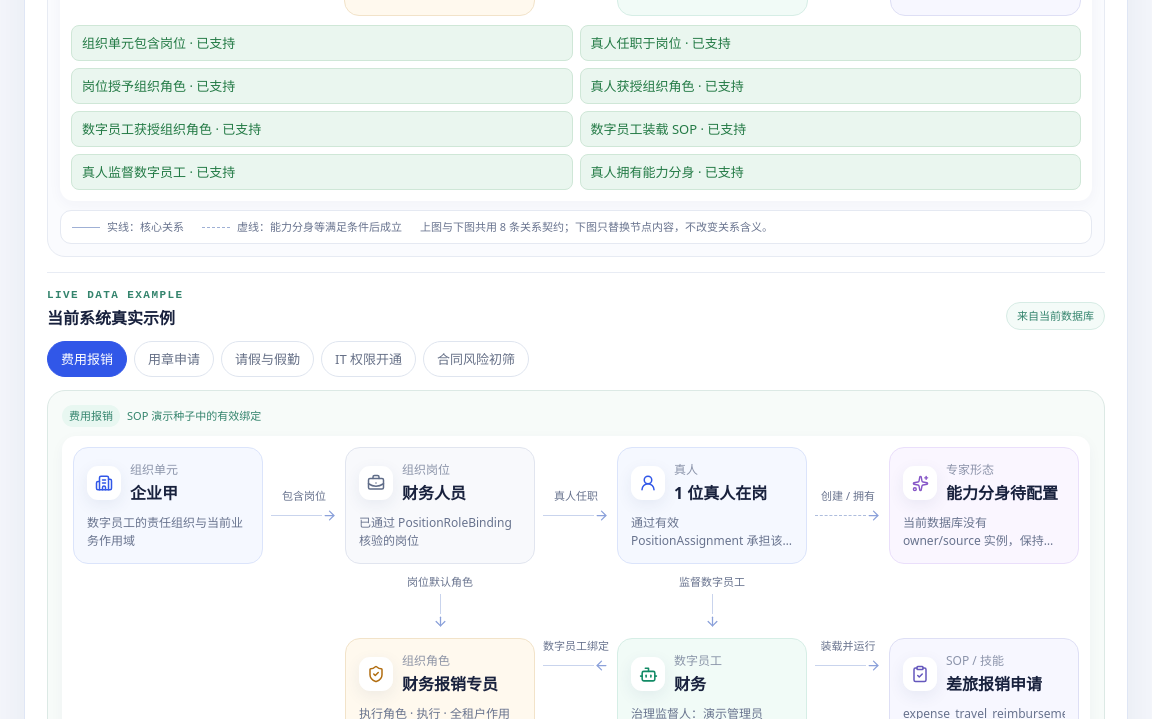
Test case: creates another enterprise as a company organization unit under the tenant root
(page scrolled)
Expected: the heading "财务报销专员" is shown, [402, 672, 498, 696]
Expected: the text "组织单元包含岗位 · 已支持" is shown once, [71, 25, 572, 61]
Click the tab "IT 权限开通" at {"x": 368, "y": 359}, box [321, 341, 416, 377]
(page scrolled)
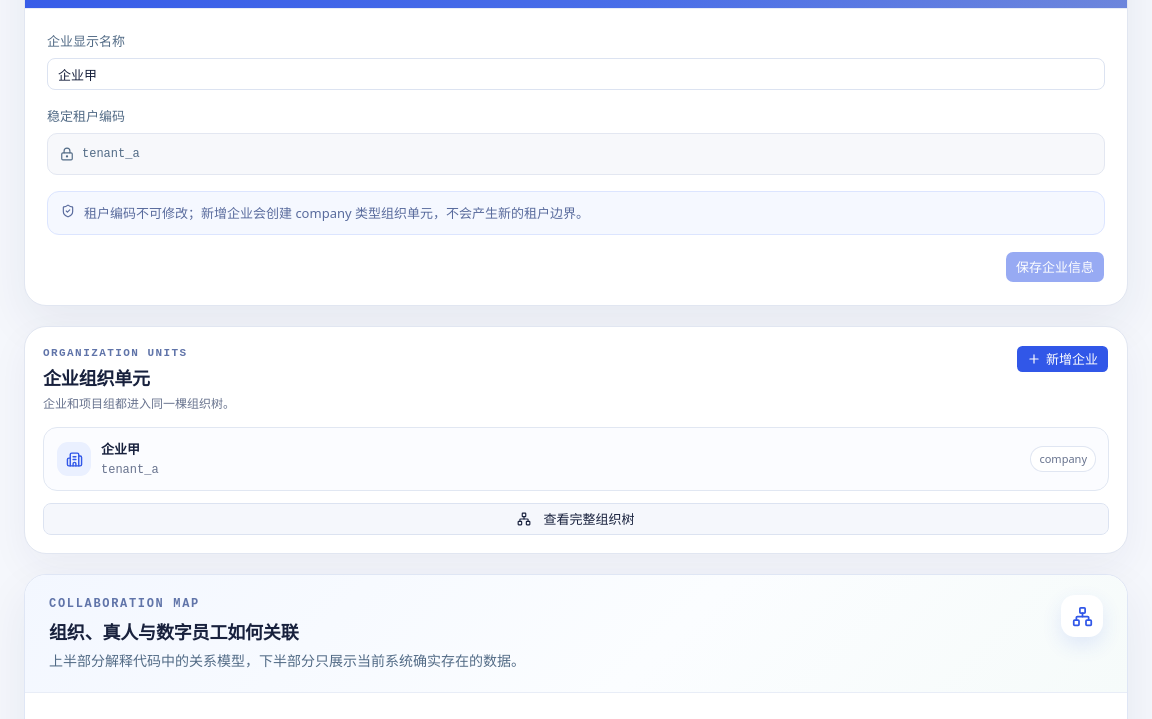
Click the button "新增企业" at {"x": 1062, "y": 359}, box [1016, 345, 1109, 373]
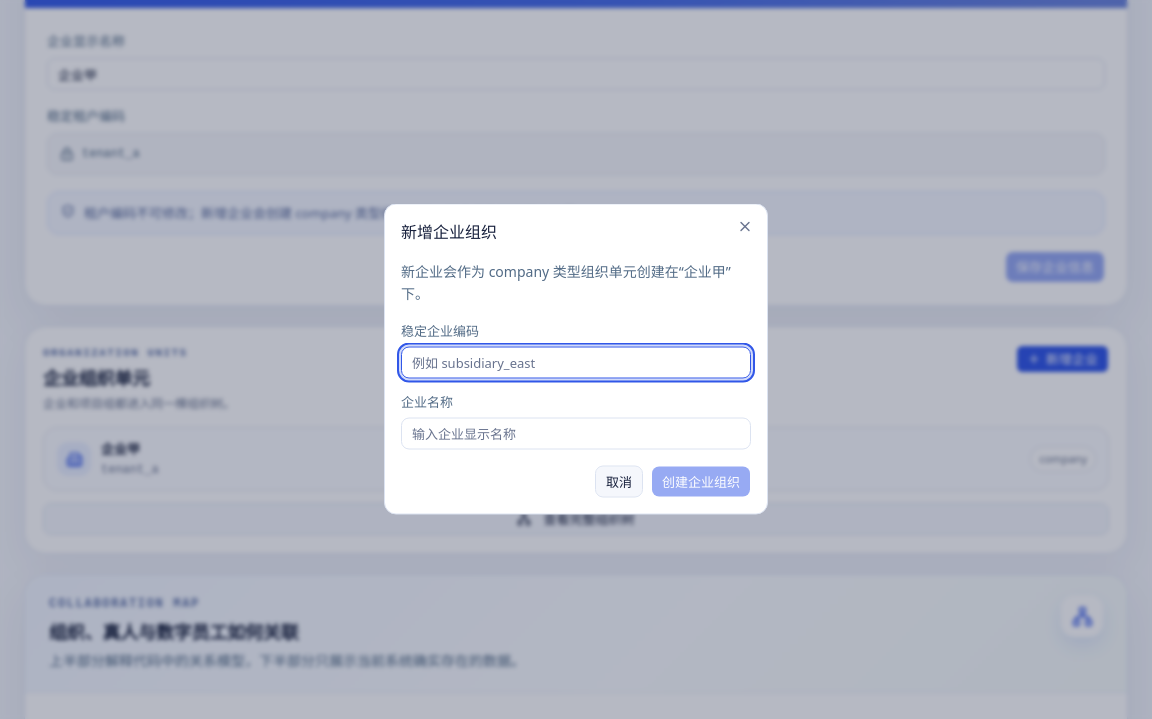
Type "subsidiary_east" into the field labelled "稳定企业编码" at {"x": 576, "y": 362}, box [401, 346, 751, 378]
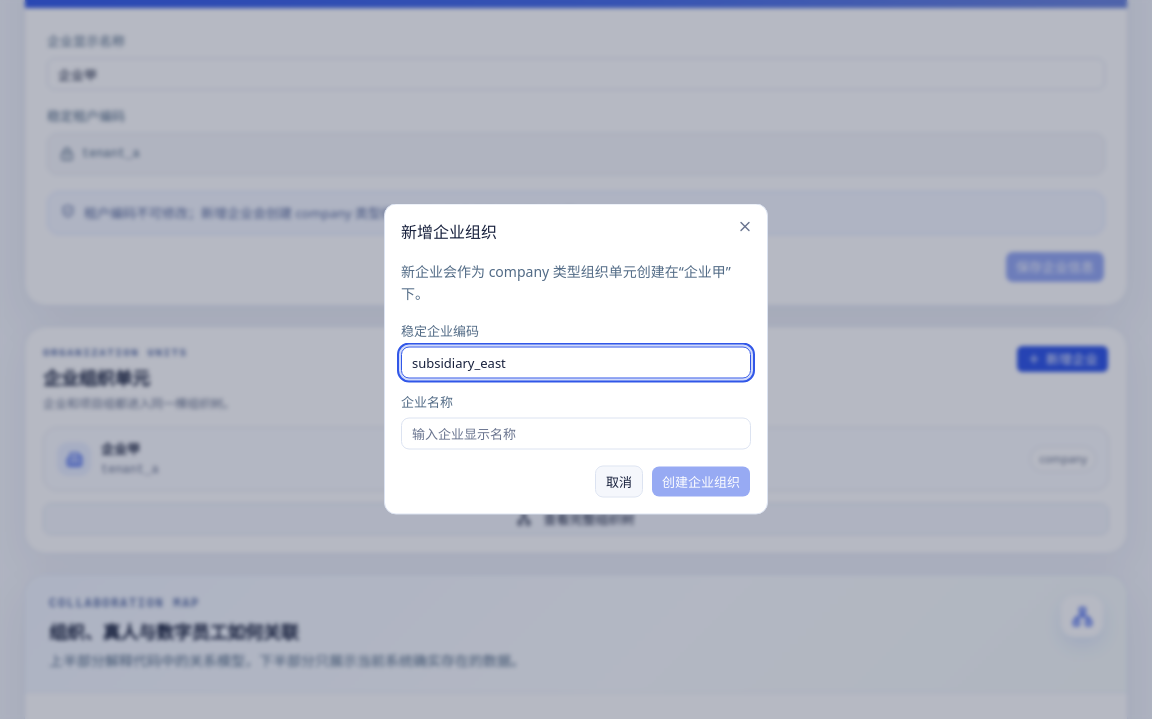
Type "华东子公司" into the field named "新增企业名称" at {"x": 576, "y": 434}, box [401, 418, 751, 450]
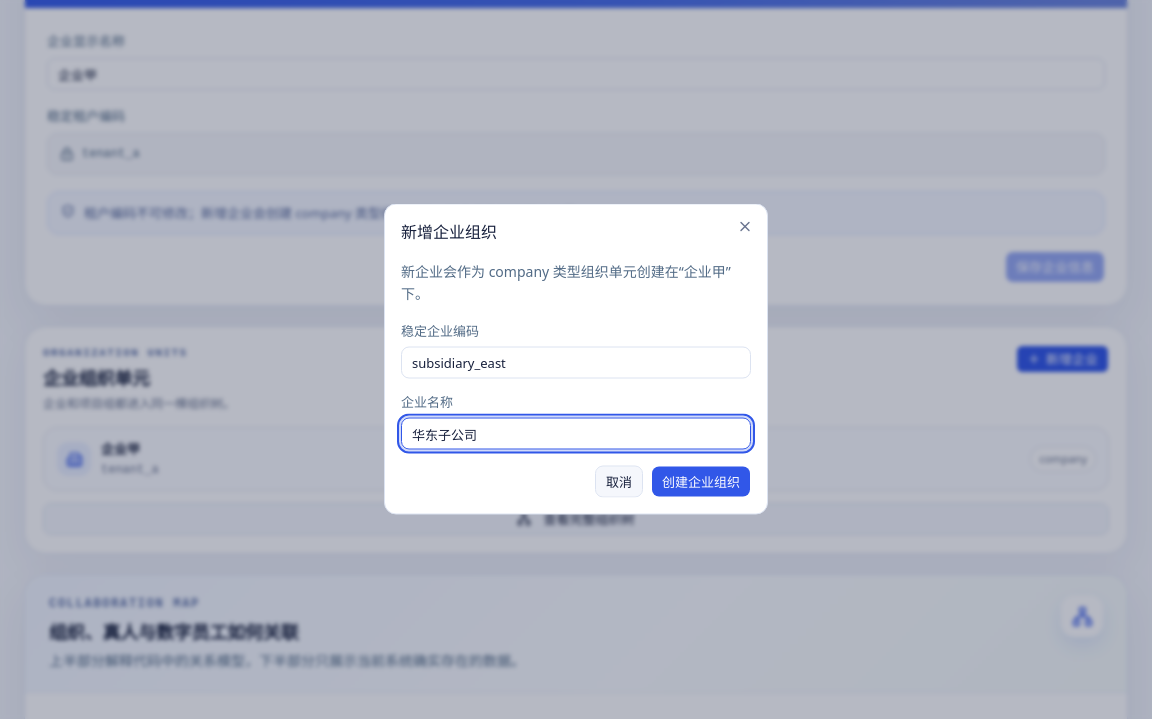
Click the button "创建企业组织" at {"x": 701, "y": 482}, box [651, 466, 751, 498]
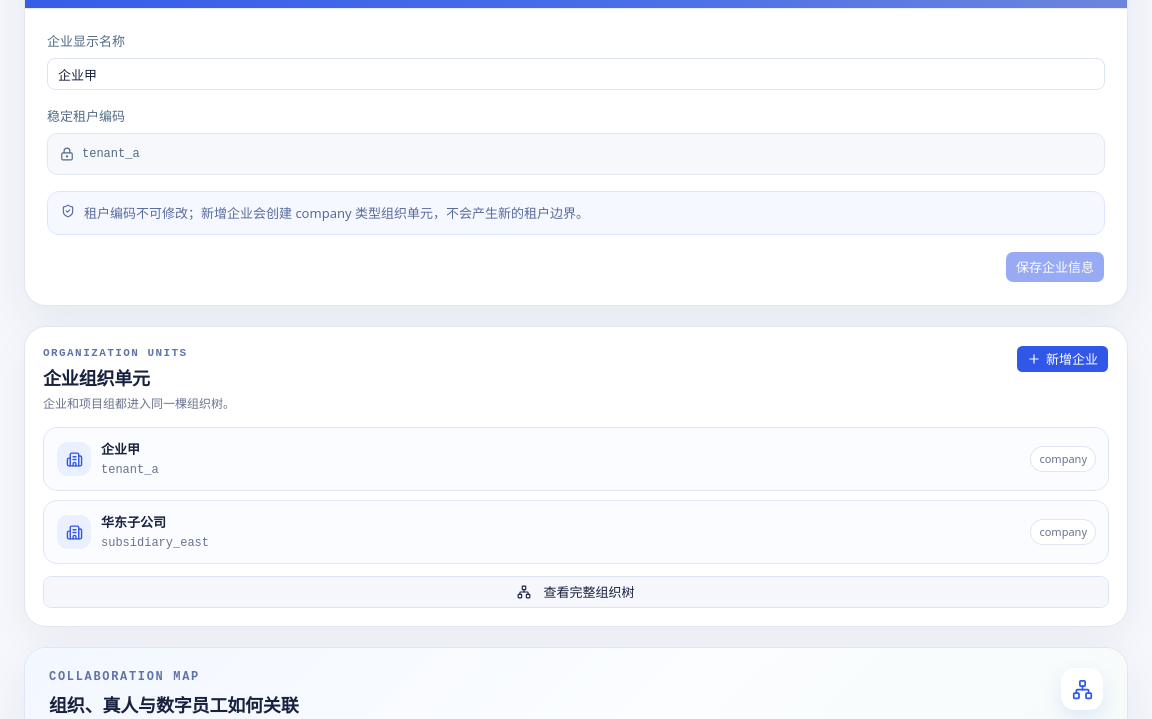
Expected: the text "华东子公司" is shown, [101, 513, 166, 531]
